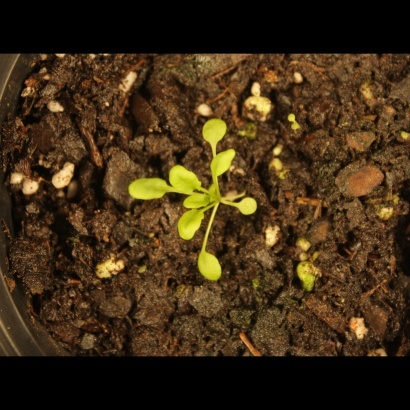leaf: (122, 172, 173, 205), (194, 246, 228, 287), (166, 163, 206, 194), (207, 148, 237, 183), (177, 210, 206, 243), (201, 115, 231, 145), (181, 191, 216, 214), (237, 194, 263, 221)
